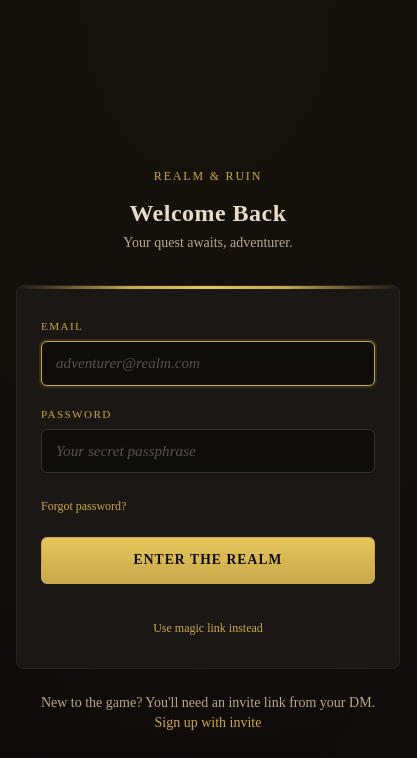
Test: LoginForm › Zod validation › shows password error when password is empty
Type "test@example.com" into the field with test id "email-input" at {"x": 208, "y": 363}, box [41,341,375,386]
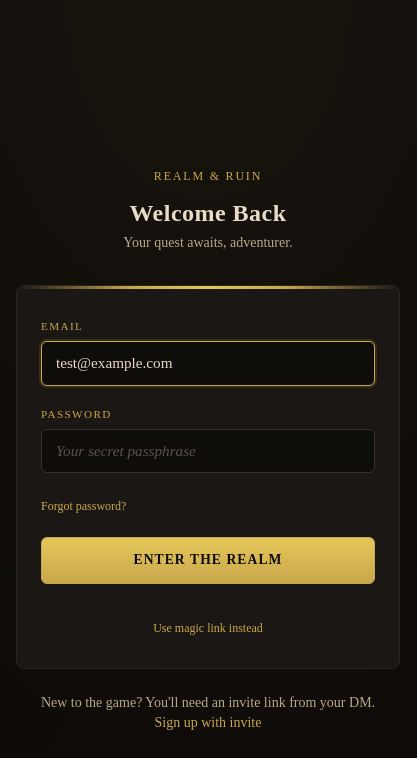
Click the button with test id "submit-button" at {"x": 208, "y": 561}, box [41,537,375,584]
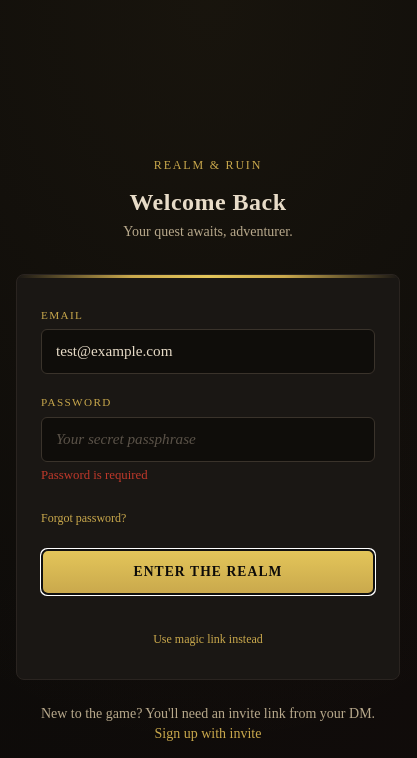
Now the text "Password is required" is shown, box [41,468,148,482]
